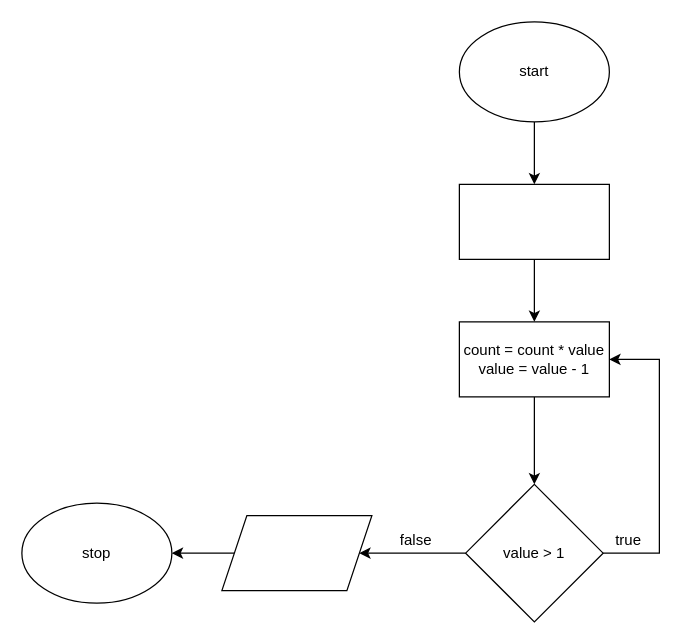
Image size: 691x644. Some labels were removed from this diagram. The shapes that lost their labels are listed below. From the top down, each one's box as (x1, y1, x2, y2) in pixels, then its label:
(458, 183, 609, 259): value count = 1
(221, 514, 372, 591): print count
